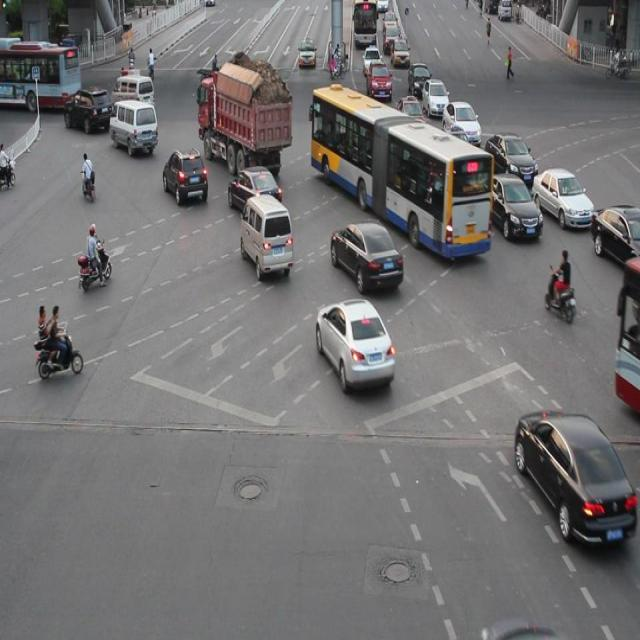bus: (197, 74, 290, 175)
car: (512, 406, 640, 544), (316, 298, 394, 391), (330, 220, 403, 293), (483, 172, 542, 240), (531, 167, 593, 230), (589, 203, 640, 269), (484, 131, 537, 189), (228, 165, 282, 219), (162, 147, 208, 205), (440, 127, 484, 182), (63, 86, 113, 132), (441, 100, 481, 147), (394, 95, 428, 138)
truck: (240, 193, 293, 279), (110, 99, 158, 156), (111, 74, 156, 120)
van: (310, 86, 492, 258)
